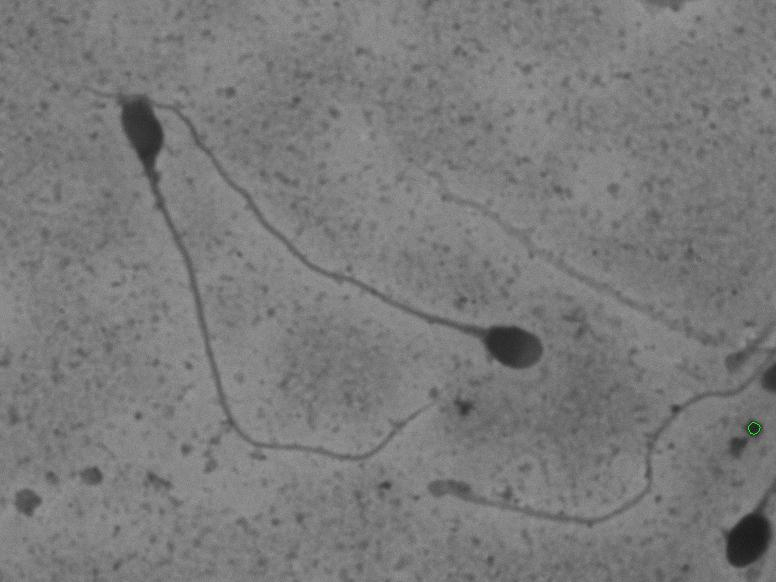Abnormal: (60, 79, 229, 342)
Normal: (83, 72, 564, 386)
